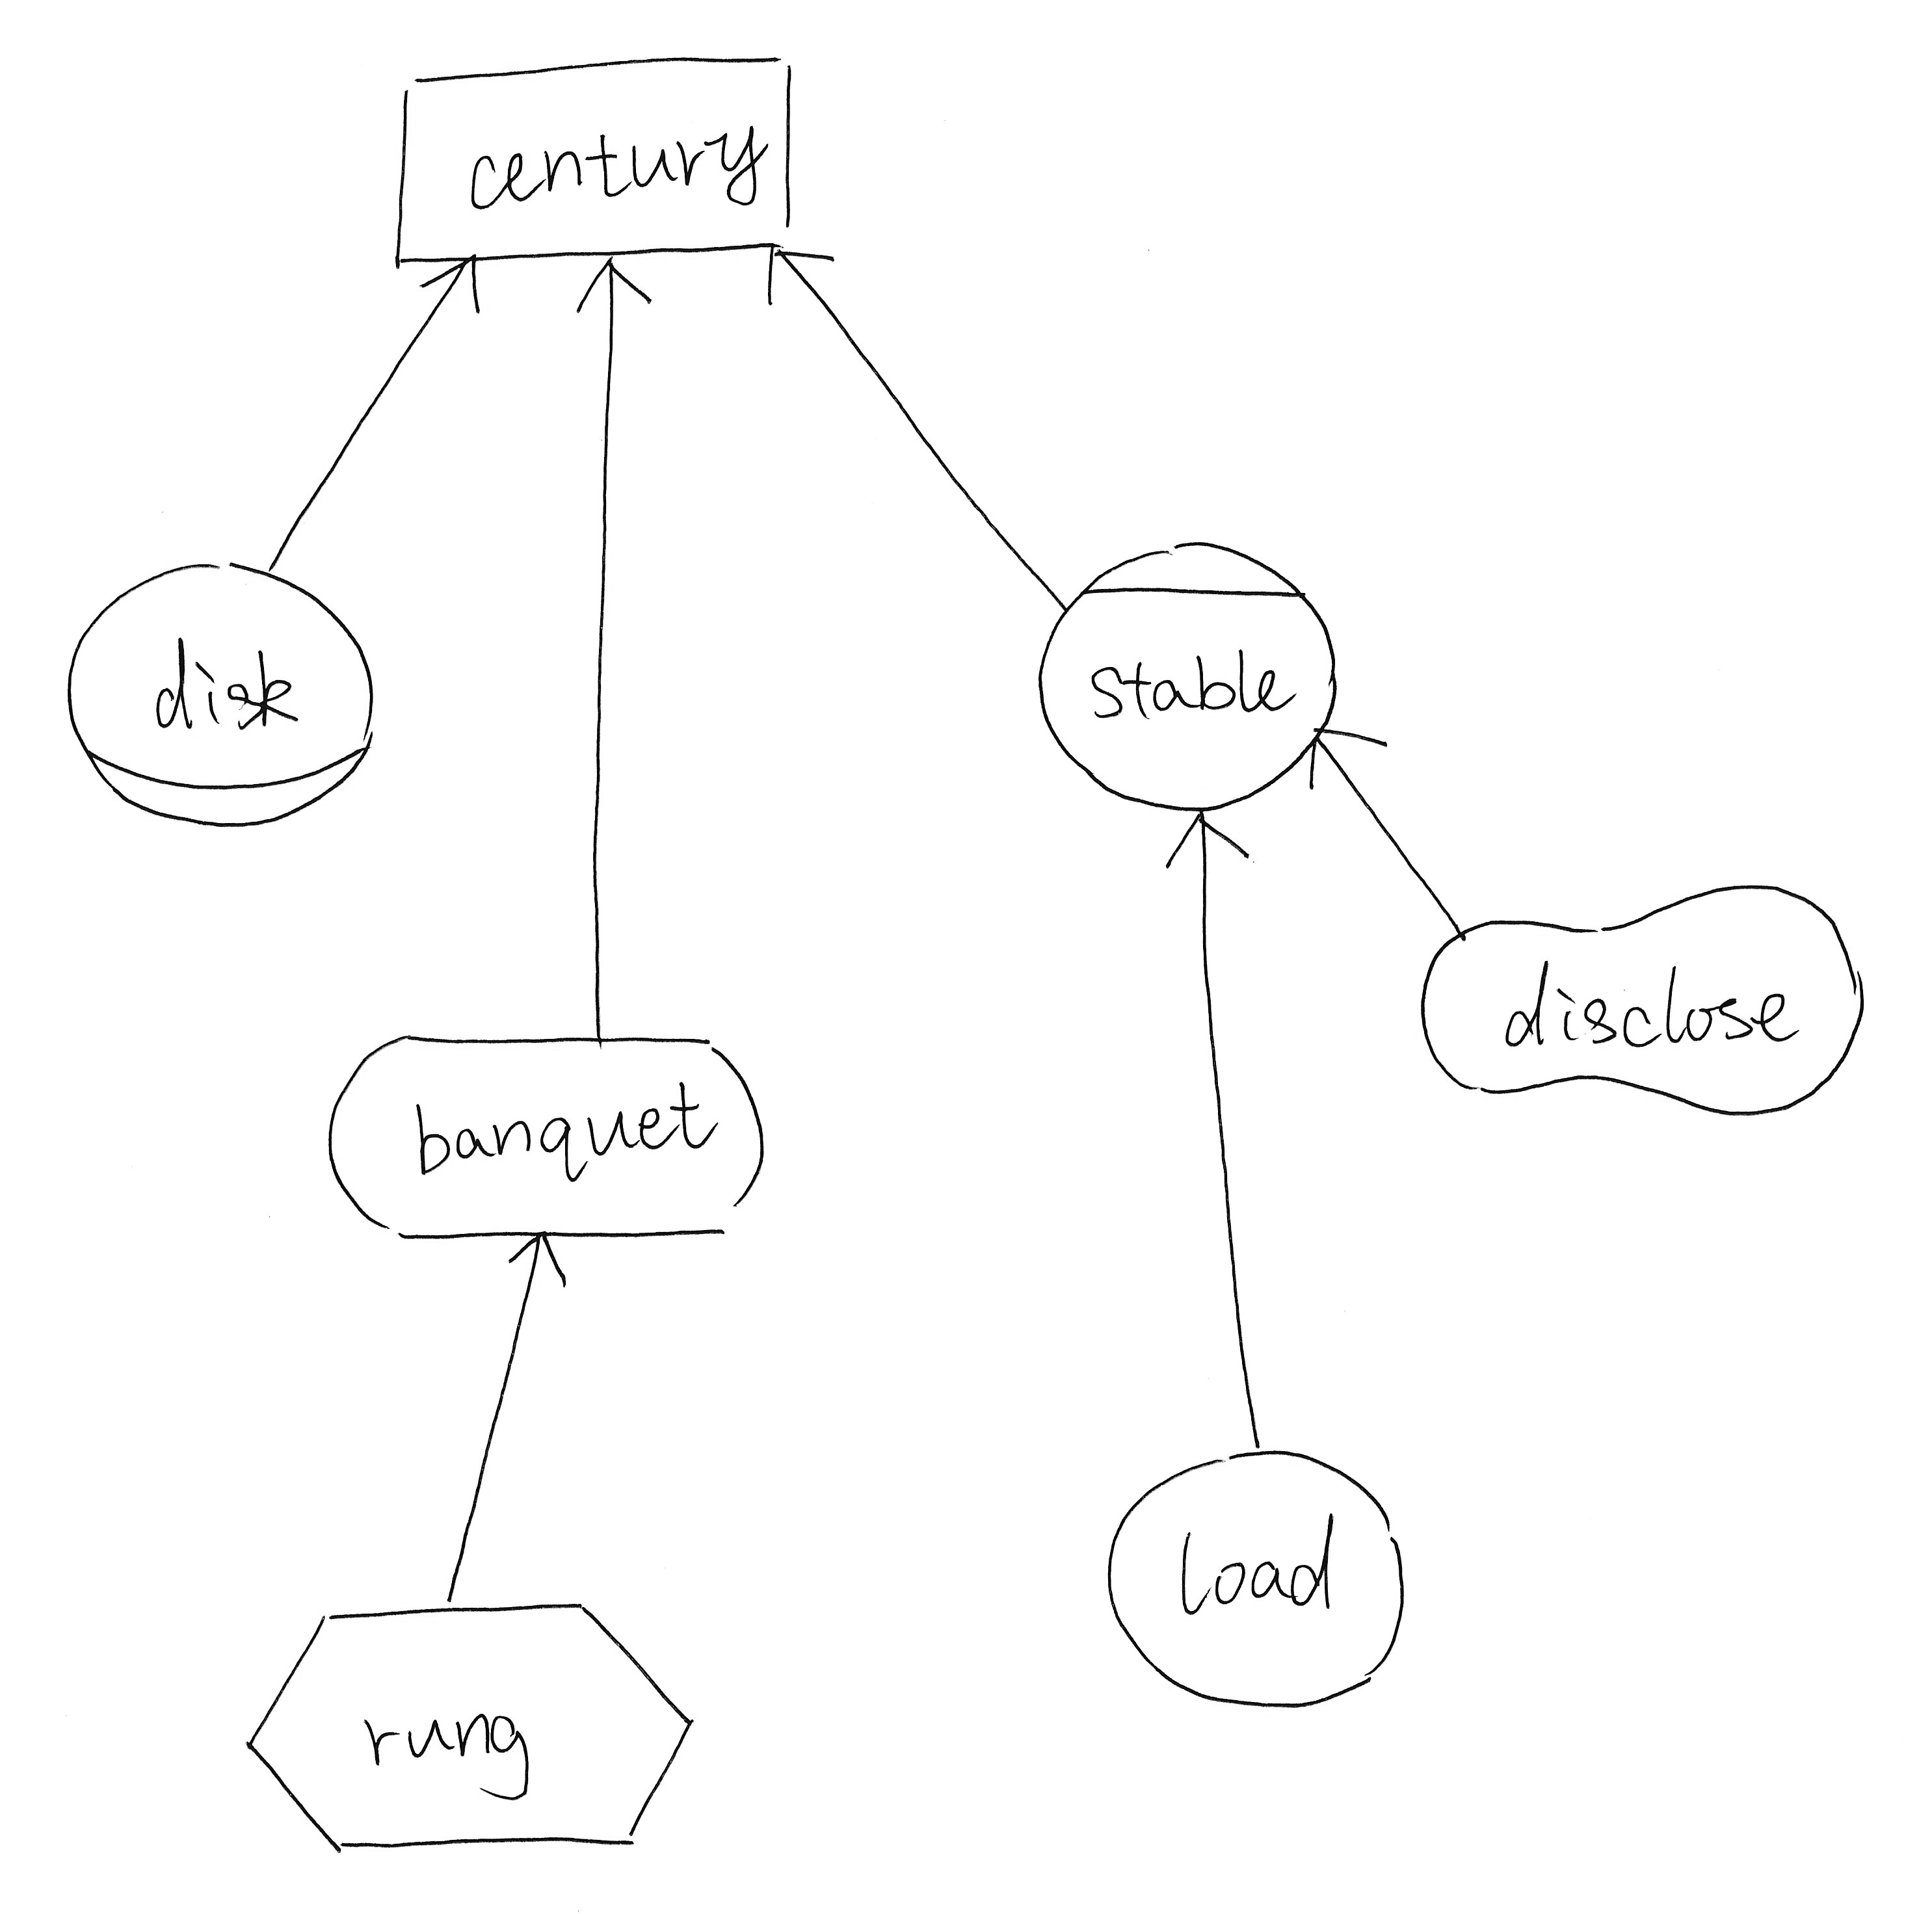actor: (1085, 1435, 1425, 1726)
agent: (1026, 519, 1355, 831)
arrow: (561, 251, 666, 333), (1148, 799, 1255, 880), (1296, 719, 1392, 801), (749, 237, 847, 314), (491, 1223, 579, 1297), (410, 251, 491, 324)
goal: (312, 1003, 777, 1269)
quality: (1404, 861, 1876, 1131)
resource: (372, 30, 812, 284)
role: (47, 538, 400, 840)
task: (228, 1576, 708, 1874)
